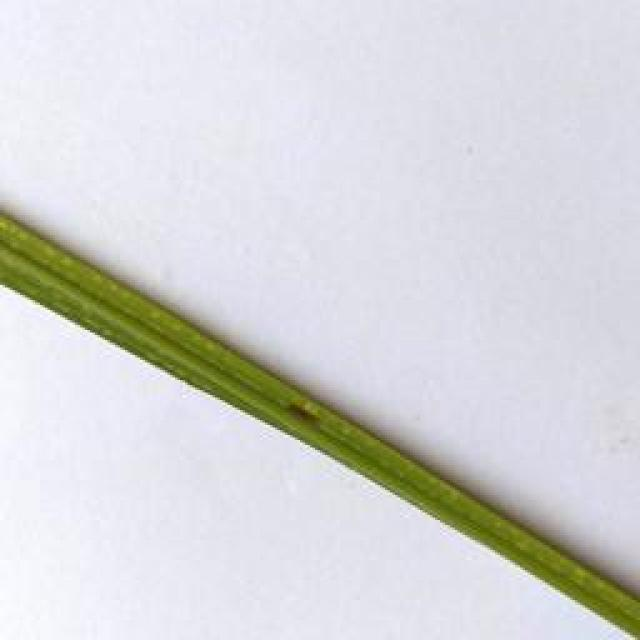Brown_Spot: (279, 389, 331, 434)
